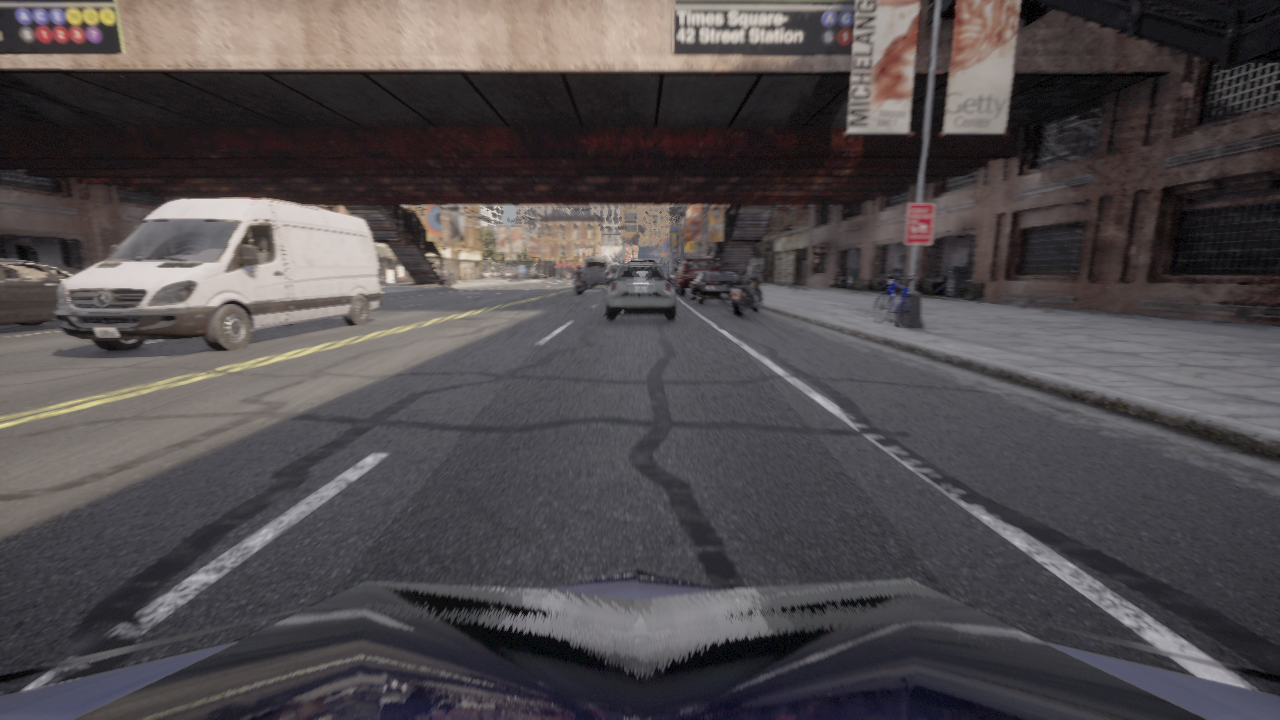cyclist: (0, 569, 1279, 719), (55, 198, 382, 351), (604, 264, 676, 320), (873, 274, 918, 329), (690, 271, 745, 303), (674, 258, 718, 295), (730, 271, 762, 316), (584, 256, 613, 288), (574, 275, 584, 295), (436, 271, 446, 287), (610, 262, 619, 276), (628, 259, 655, 263), (530, 273, 547, 278), (512, 273, 516, 278)
